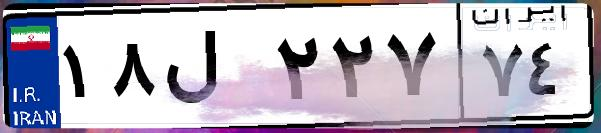1: (57, 26, 110, 100)
2: (270, 28, 330, 110), (330, 28, 385, 110)
4: (525, 38, 570, 115)
7: (385, 28, 445, 110), (475, 38, 525, 113)
8: (110, 28, 158, 98)
ل: (158, 20, 270, 120)
